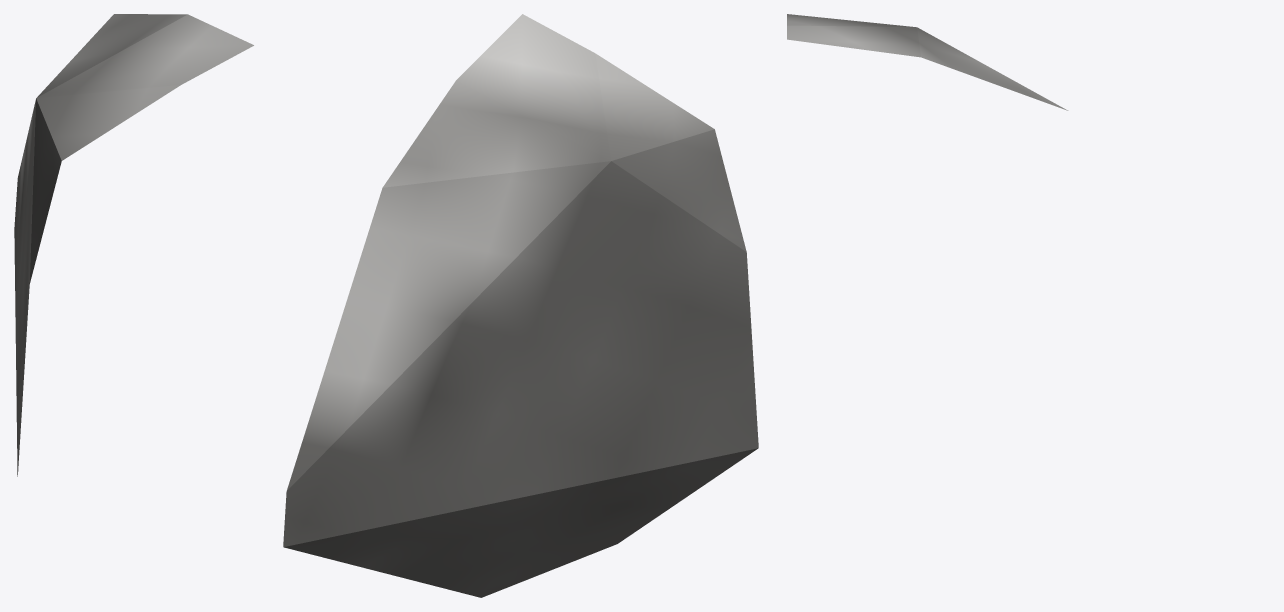
The picture shows the model from 3 angles, left to right: view 1: azimuth 30°, elevation 25°; view 2: azimuth 150°, elevation 25°; view 3: azimuth 270°, elevation 25°; orthographic projection.
Size of the model in its own units: 0.0107 by 0.0241 by 0.0189.
Materials: 1 (1 with a texture image).
